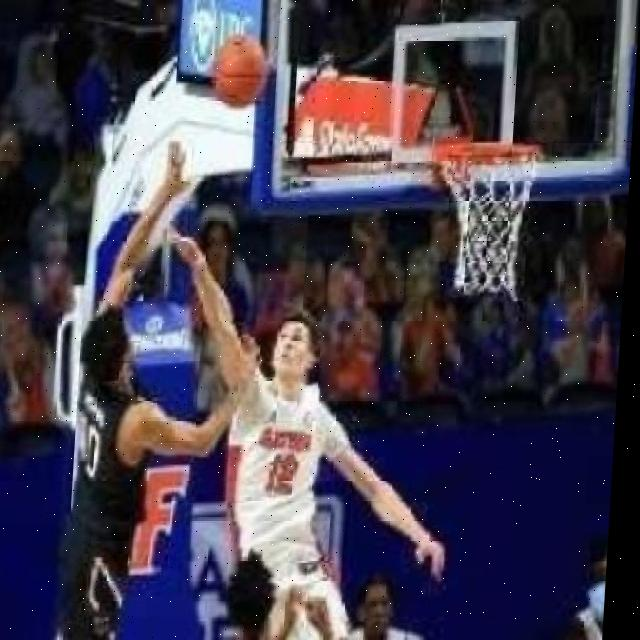basketball: (209, 29, 271, 109)
hoop: (424, 139, 550, 303)
